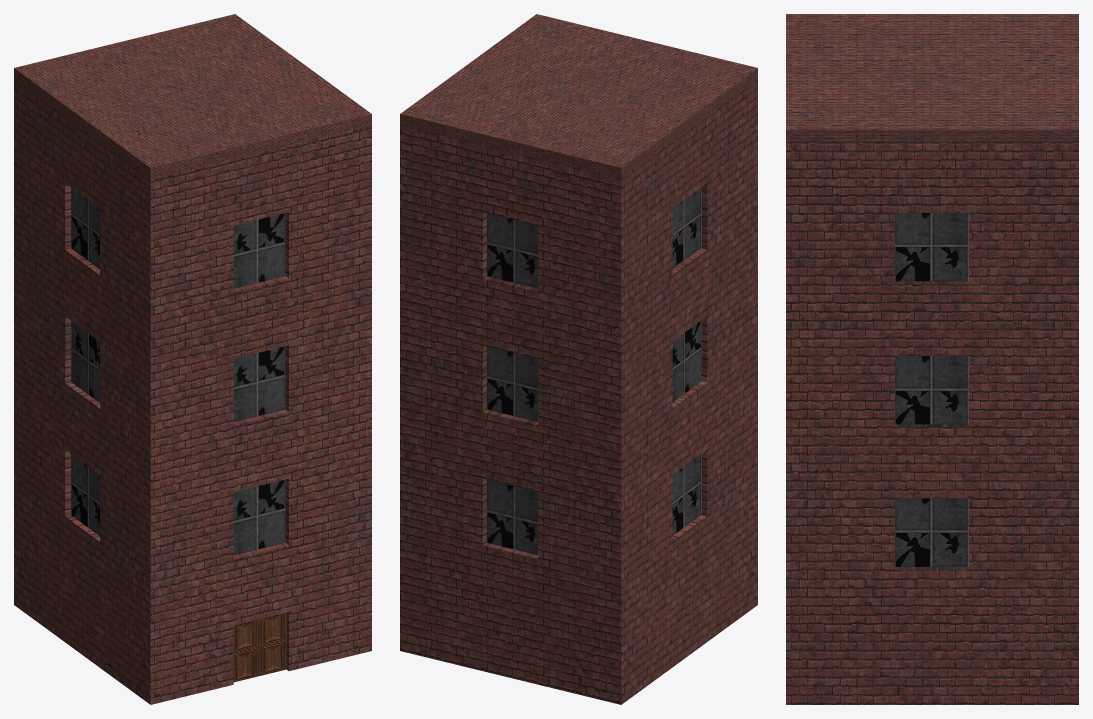
The model's file is Edificio_1.glb.
3 views of the same model, side by side, from view 1: azimuth 30°, elevation 25°; view 2: azimuth 150°, elevation 25°; view 3: azimuth 270°, elevation 25° (orthographic). The views are drawn at different scales.
Visible parts, largest first — view 1: Cube; view 2: Cube; view 3: Cube.
Boxes of the visible parts, bbox=[...] form: Cube: bbox=[14, 14, 371, 704]; Cube: bbox=[400, 14, 757, 704]; Cube: bbox=[786, 14, 1078, 704].
Bounding box in the file's own units: 10.94 × 25.37 × 11.7.
Materials: 3 (3 with a texture image).
